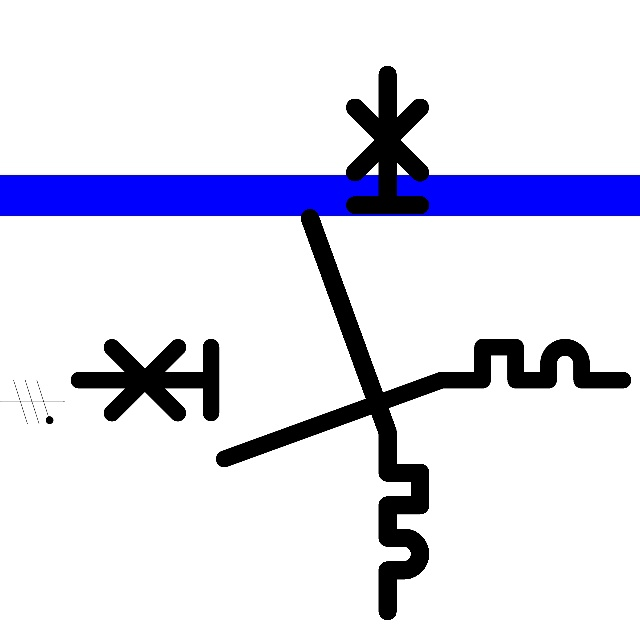interruptor_termomagnetico: (64, 333, 636, 473), (296, 61, 434, 625)
